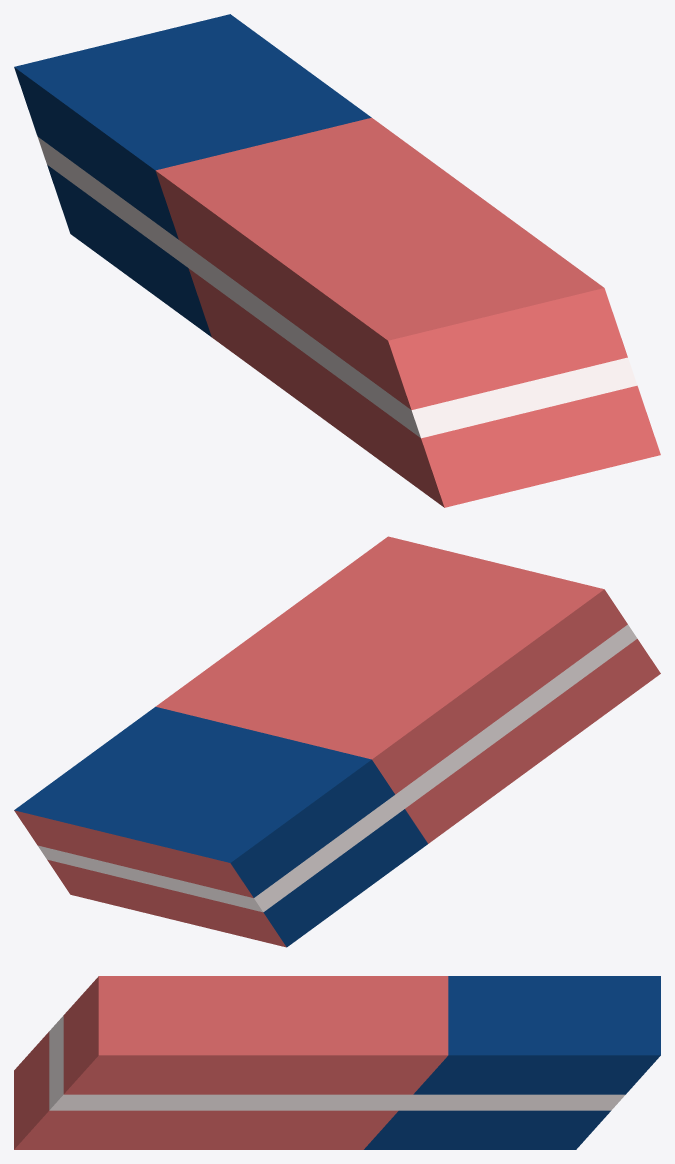
File: RubberEraserV1.fbx
3 views of the same model, one above another, from view 1: azimuth 30°, elevation 25°; view 2: azimuth 150°, elevation 25°; view 3: azimuth 270°, elevation 25° (orthographic). The views are drawn at different scales.
Visible parts, largest first — view 1: RubberEraserV1; view 2: RubberEraserV1; view 3: RubberEraserV1.
Part boxes in pixels (x1,y1,x2,y2): RubberEraserV1: (14, 14, 660, 507); RubberEraserV1: (14, 536, 660, 947); RubberEraserV1: (14, 976, 660, 1149).
Size of the model in its own units: 0.6501 by 0.3611 by 2.24.
